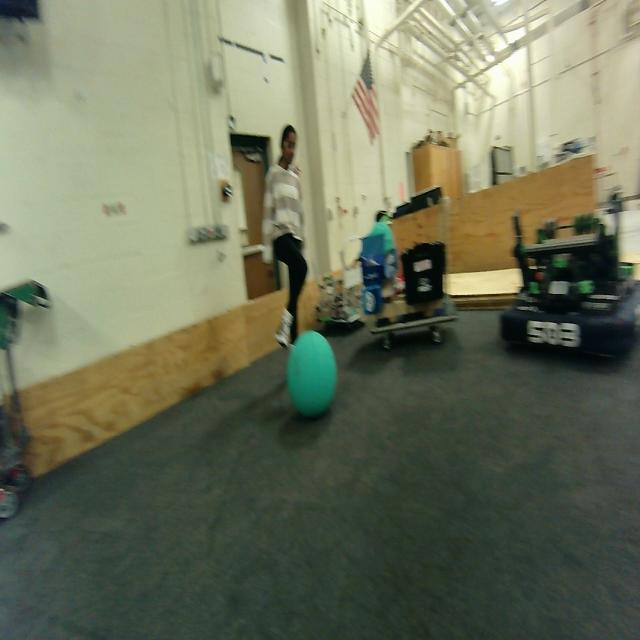algae: (284, 326, 346, 418)
